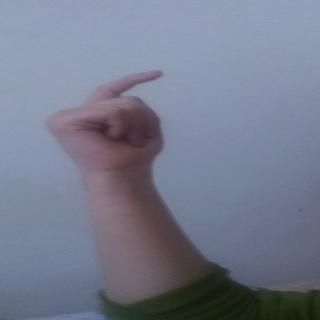RAA: (46, 68, 198, 158)
